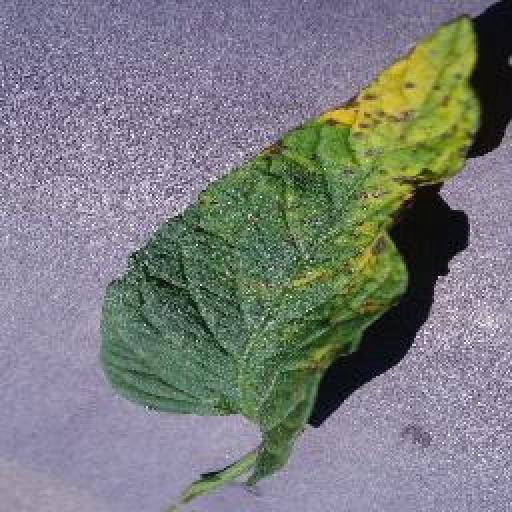Septoria: (100, 17, 482, 492)
